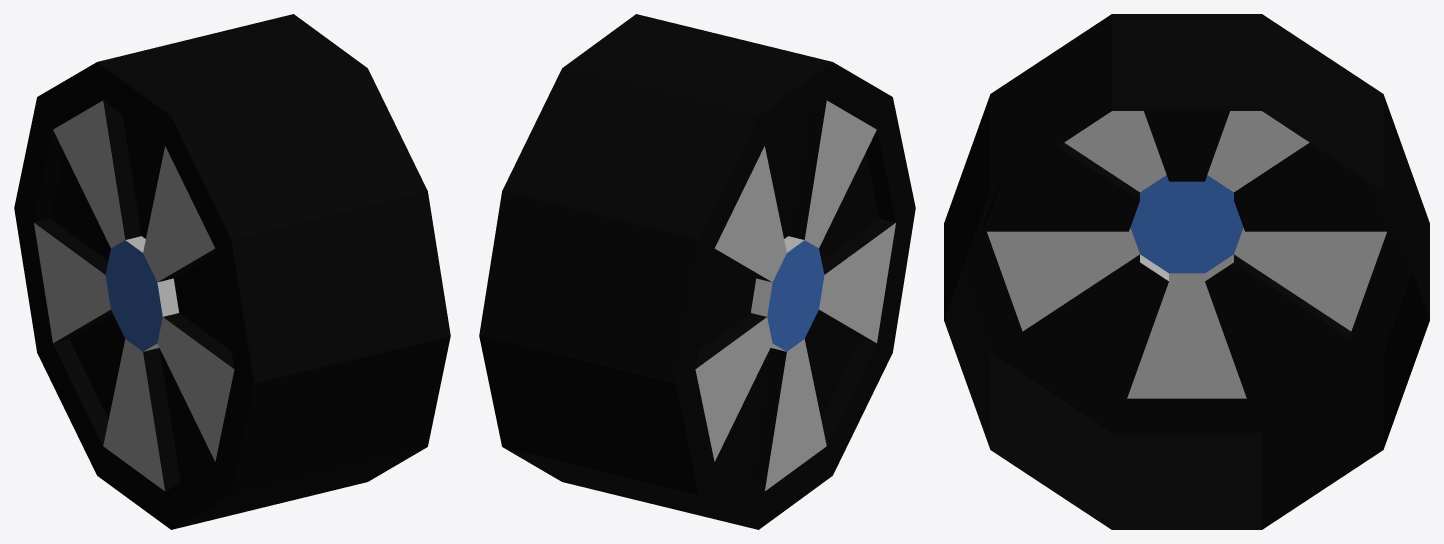
Rendered from BMW Wheel.glb.
3 views of the same model, side by side, from view 1: azimuth 30°, elevation 25°; view 2: azimuth 150°, elevation 25°; view 3: azimuth 270°, elevation 25° (orthographic).
Parts seen in each view (by area): view 1: BMW Wheel; view 2: BMW Wheel; view 3: BMW Wheel.
Part boxes in pixels (box(x1,y1,x2,y2)): BMW Wheel: box(14, 14, 450, 529); BMW Wheel: box(479, 14, 915, 529); BMW Wheel: box(944, 14, 1429, 529).
Bounding box in the file's own units: 0.4258 × 0.8562 × 0.9003.
